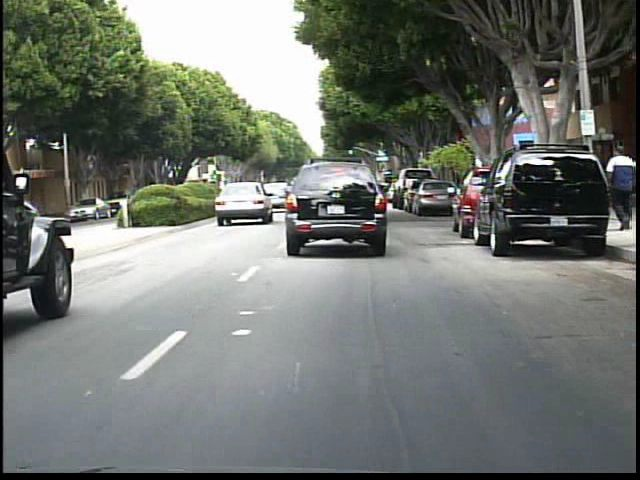person: (599, 141, 638, 236)
